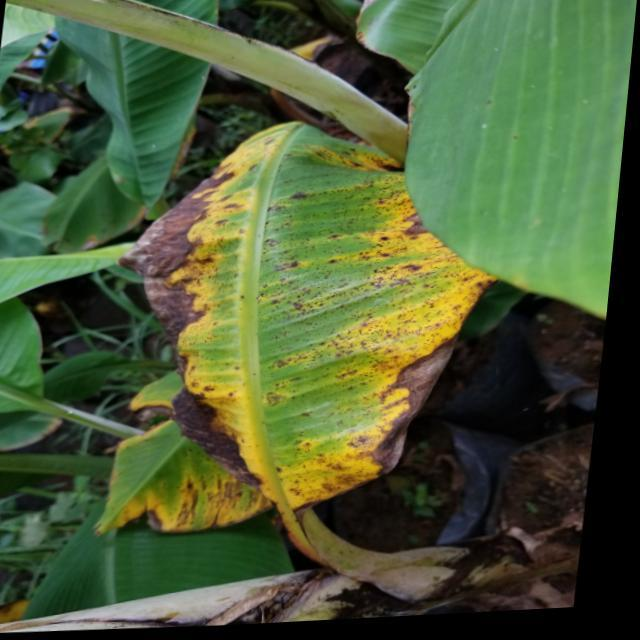Early_rust: (104, 105, 476, 549)
